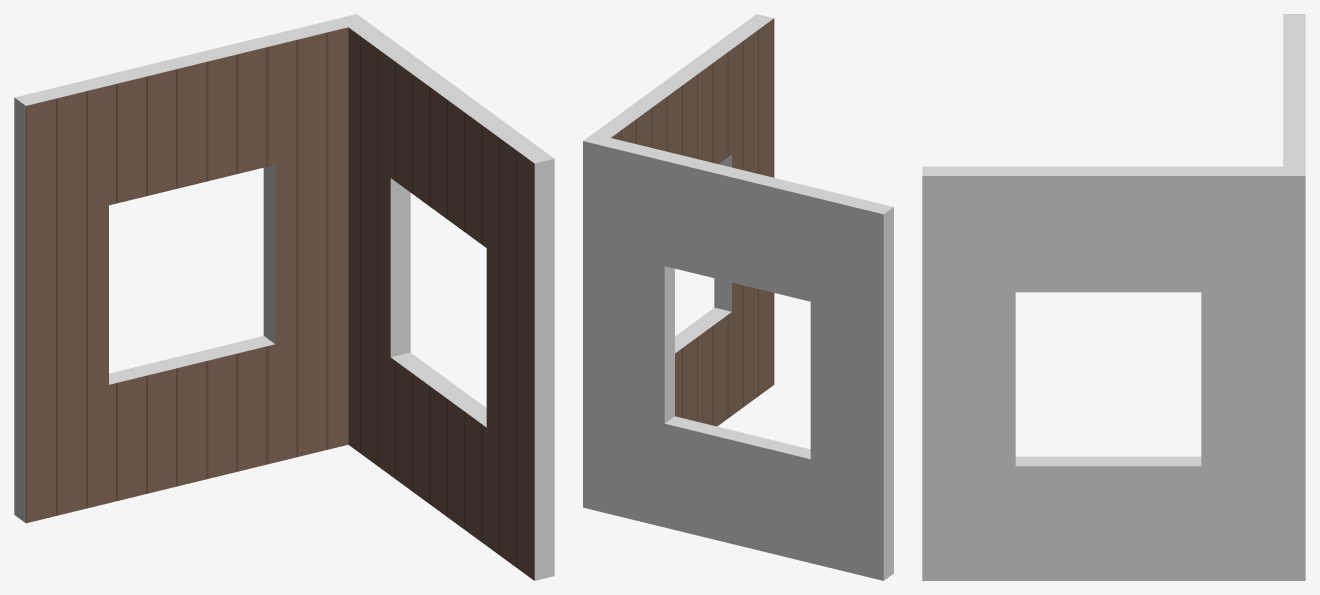
Rendered from Wall1_C9_12.fbx.
The picture shows the model from 3 angles, left to right: view 1: azimuth 30°, elevation 25°; view 2: azimuth 150°, elevation 25°; view 3: azimuth 270°, elevation 25°; orthographic projection. The views are drawn at different scales.
Parts seen in each view (by area): view 1: Wall1_C9_12; view 2: Wall1_C9_12; view 3: Wall1_C9_12.
Part boxes in pixels (x1,y1,x2,y2): Wall1_C9_12: (14,14,554,580); Wall1_C9_12: (583,14,893,580); Wall1_C9_12: (922,14,1305,580).
Size of the model in its own units: 258 by 300 by 258.
